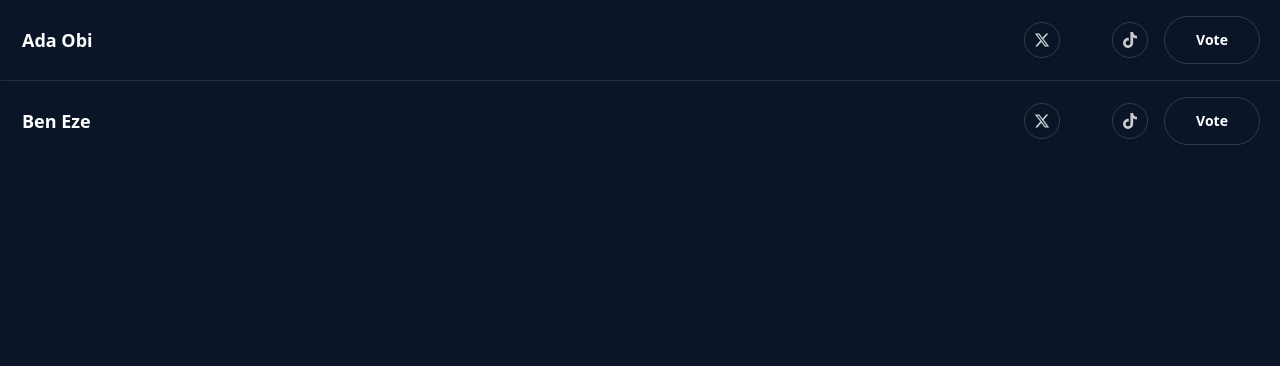
Test: BallotRow › shows the server's answer to a cast word for word, as the code field's description
Click the button with aria-label "Vote for Ada Obi". click: (1212, 40)
box: [1164,16,1260,64]
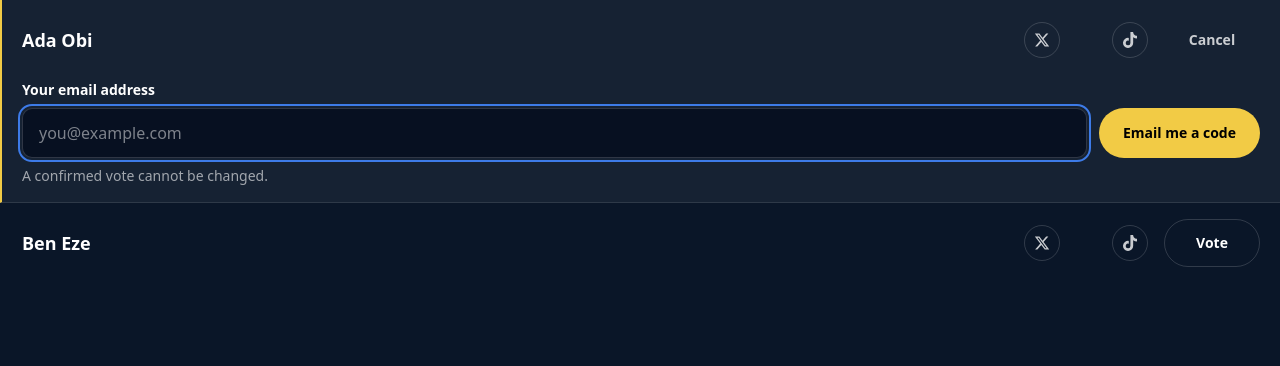
Type "ada@example.com" into the field labelled "Your email address". click: (554, 133)
box: [22,108,1087,158]
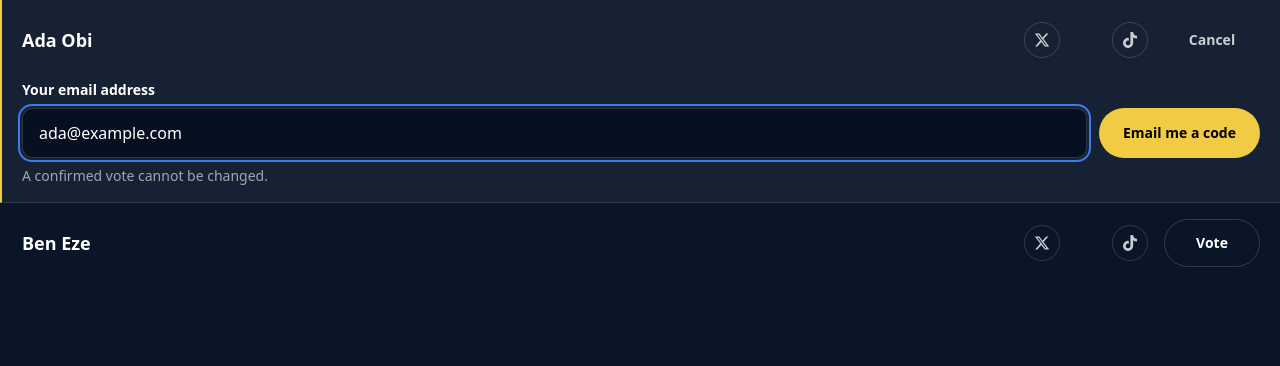
Click the button "Email me a code". click: (1180, 133)
box: [1099,108,1260,158]
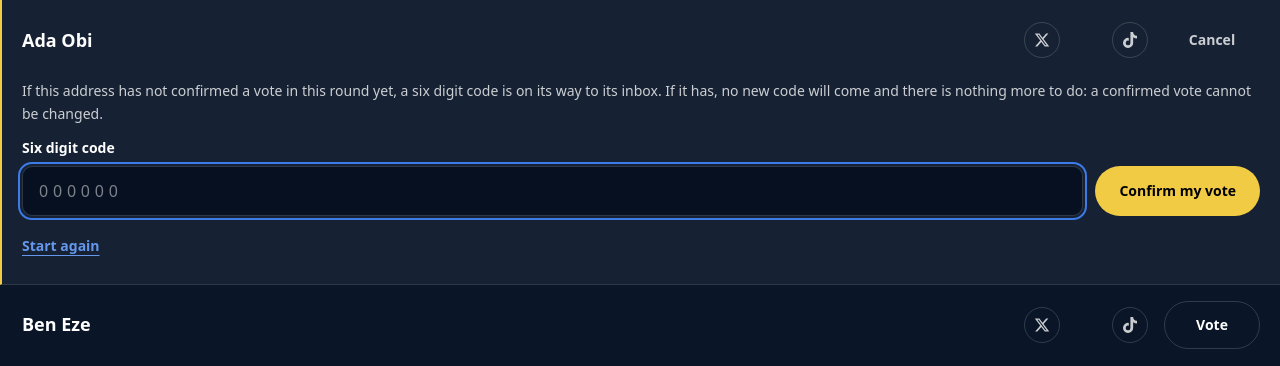
Expected: the text "If this address has not confirmed a vote in this round yet, a six digit code is on its way to its inbox. If it has, no n" shows "If this address has not confirmed a vote in this round yet, a six digit code is on its way to its inbox. If it has, no new code will come and there is nothing m", [22,81,1251,123]
